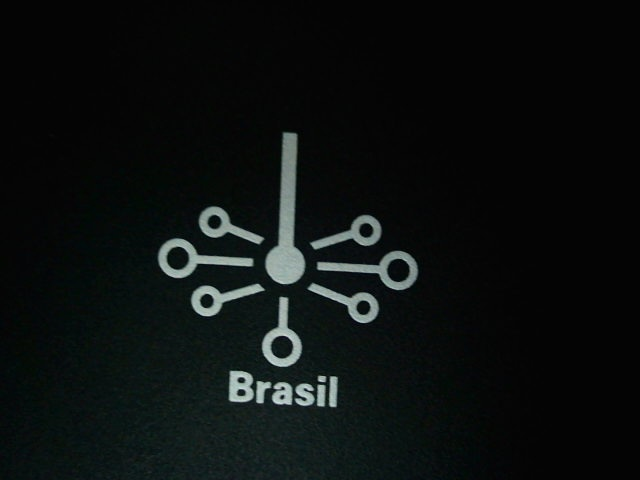BG_Brasil: (115, 114, 438, 433)
